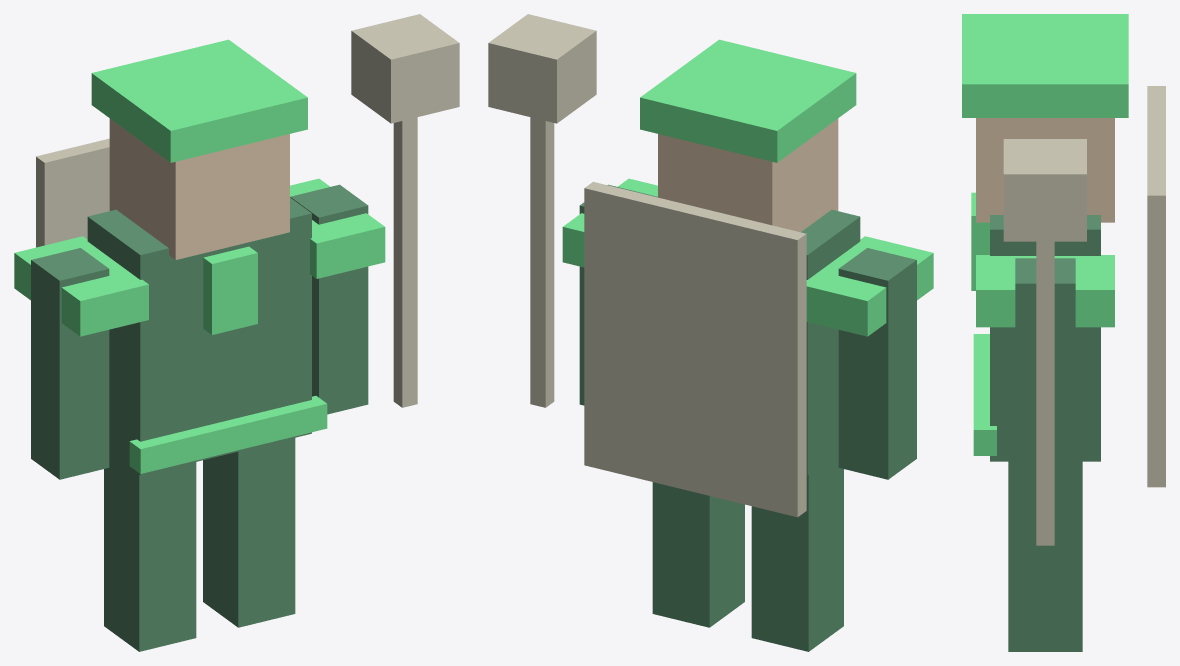
Rendered from 17_quill_runeclasp_fixer_near.glb.
The picture shows the model from 3 angles, left to right: view 1: azimuth 30°, elevation 25°; view 2: azimuth 150°, elevation 25°; view 3: azimuth 270°, elevation 25°; orthographic projection. The views are drawn at different scales.
Parts seen in each view (by area): view 1: Quill Runeclasp, Fixer near; view 2: Quill Runeclasp, Fixer near; view 3: Quill Runeclasp, Fixer near.
Boxes of the visible parts, box(x1,y1,x2,y2) form: Quill Runeclasp, Fixer near: box(14, 14, 459, 651); Quill Runeclasp, Fixer near: box(488, 14, 933, 651); Quill Runeclasp, Fixer near: box(962, 14, 1165, 651).
Size of the model in its own units: 1.11 by 1.44 by 0.472.
